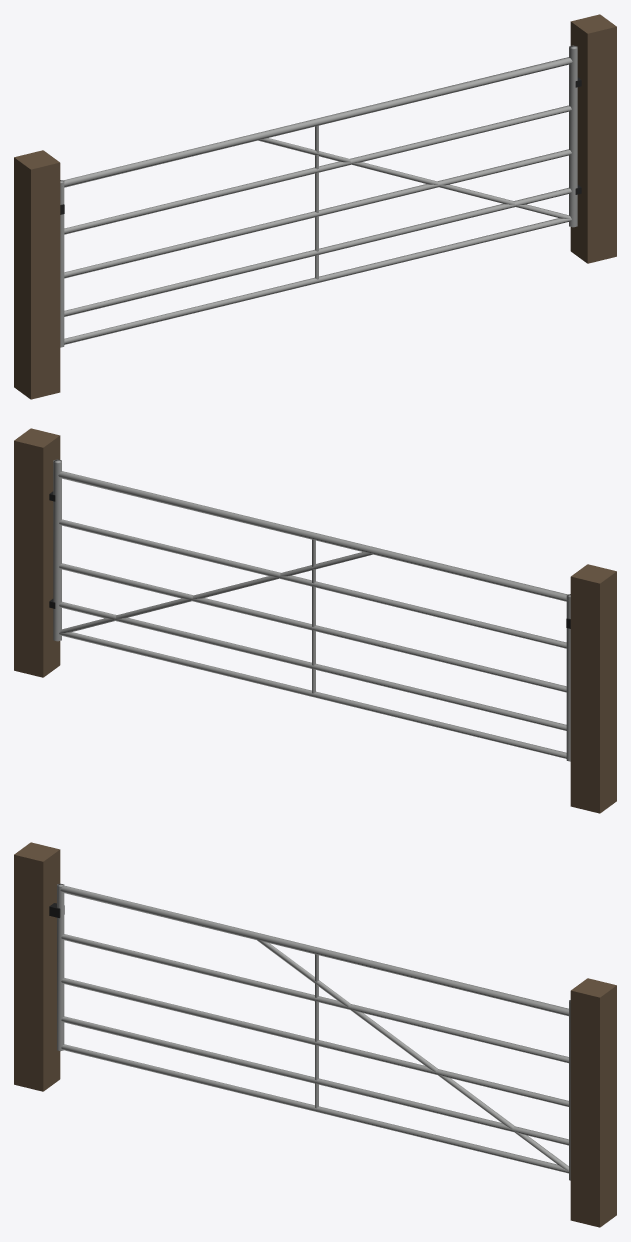
The model's file is boundary.gate.field_bar_b.glb.
3 views of the same model, one above another, from view 1: azimuth 30°, elevation 25°; view 2: azimuth 150°, elevation 25°; view 3: azimuth 330°, elevation 25° (orthographic).
Parts seen in each view (by area): view 1: main__galv_aaa, main__glaze_654; view 2: main__galv_aaa, main__glaze_654; view 3: main__galv_aaa, main__glaze_654.
Part boxes in pixels (left/top/right/bottom): main__galv_aaa: left=60, top=45, right=577, bottom=347; main__glaze_654: left=14, top=14, right=616, bottom=399; main__galv_aaa: left=53, top=459, right=570, bottom=761; main__glaze_654: left=14, top=428, right=616, bottom=813; main__galv_aaa: left=57, top=883, right=570, bottom=1180; main__glaze_654: left=14, top=842, right=616, bottom=1227.
Size of the model in its own units: 4 by 1.5 by 0.2.
